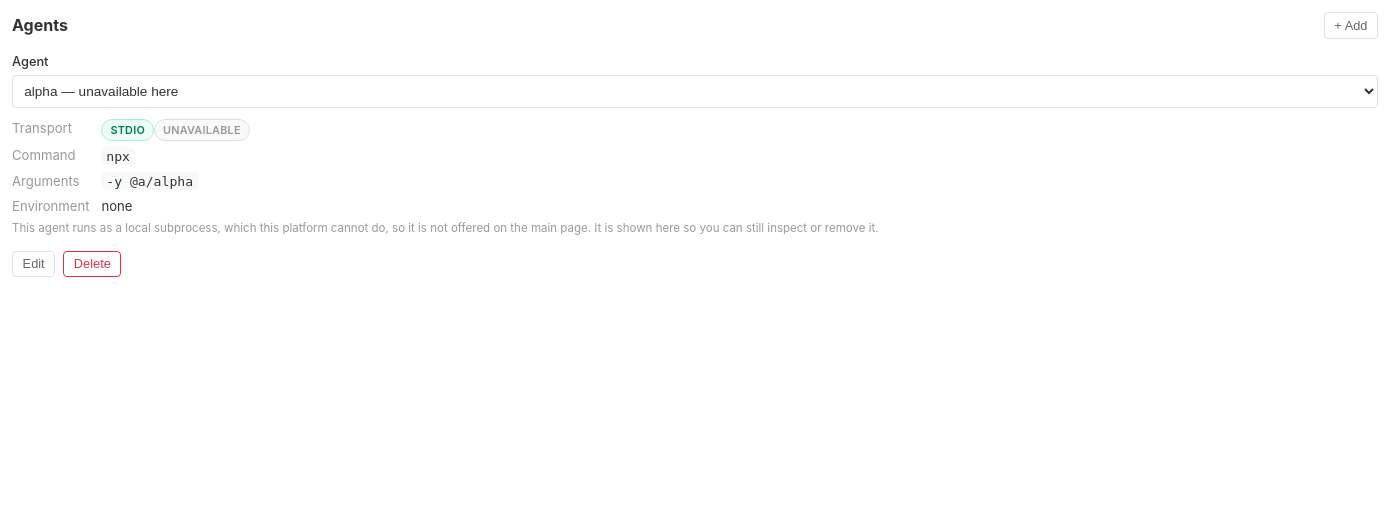
Test: SettingsAgents › shows the configuration read-only until Edit is pressed
Step 1. Click the button "Edit" → (34, 264), box left=12, top=250, right=55, bottom=277
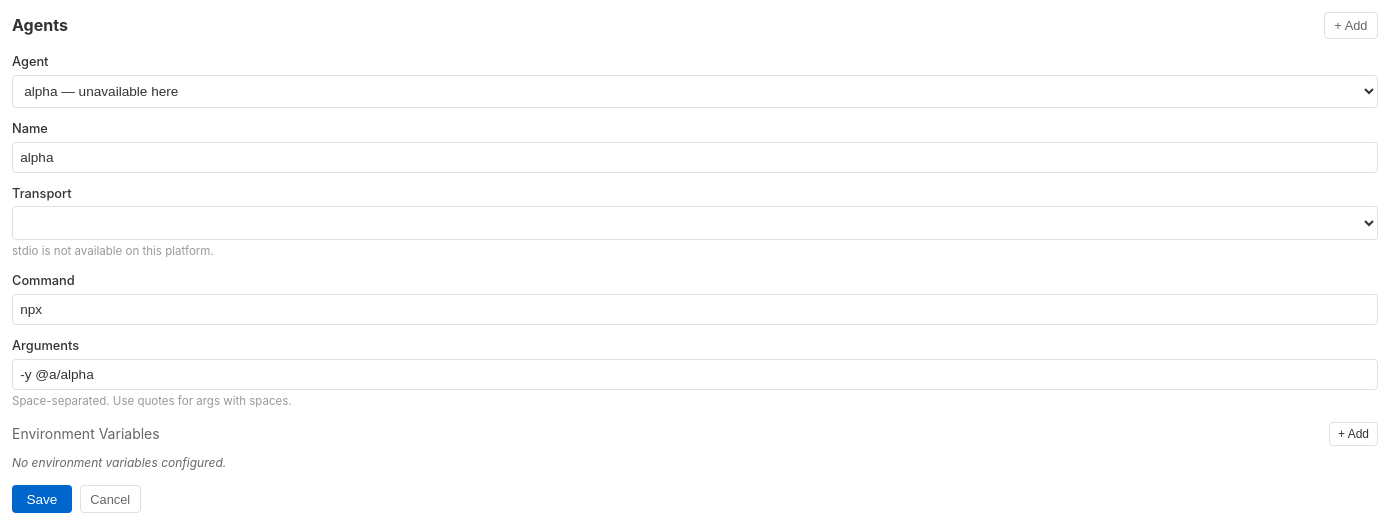
Expected: the field below "Name" holds "alpha", left=12, top=142, right=1378, bottom=173
